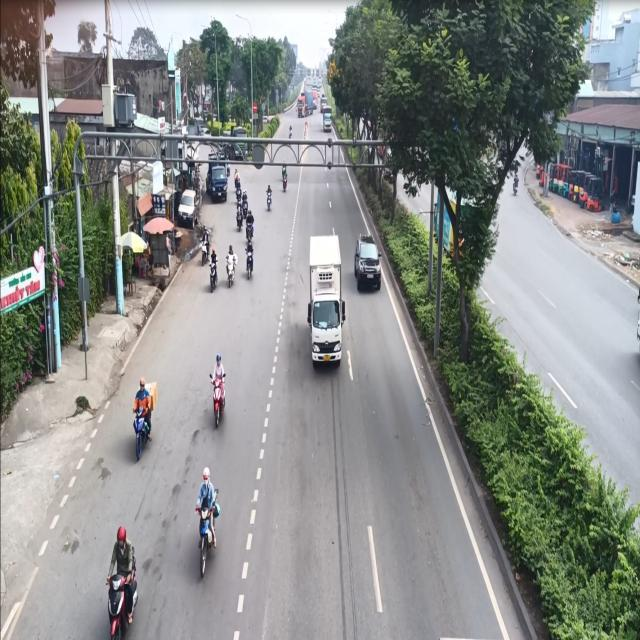car: (350, 222, 386, 294)
motor: (102, 520, 141, 640), (192, 466, 220, 582), (124, 371, 160, 459), (206, 350, 228, 428), (225, 235, 239, 294), (208, 248, 220, 288)
truck: (302, 229, 348, 385)
